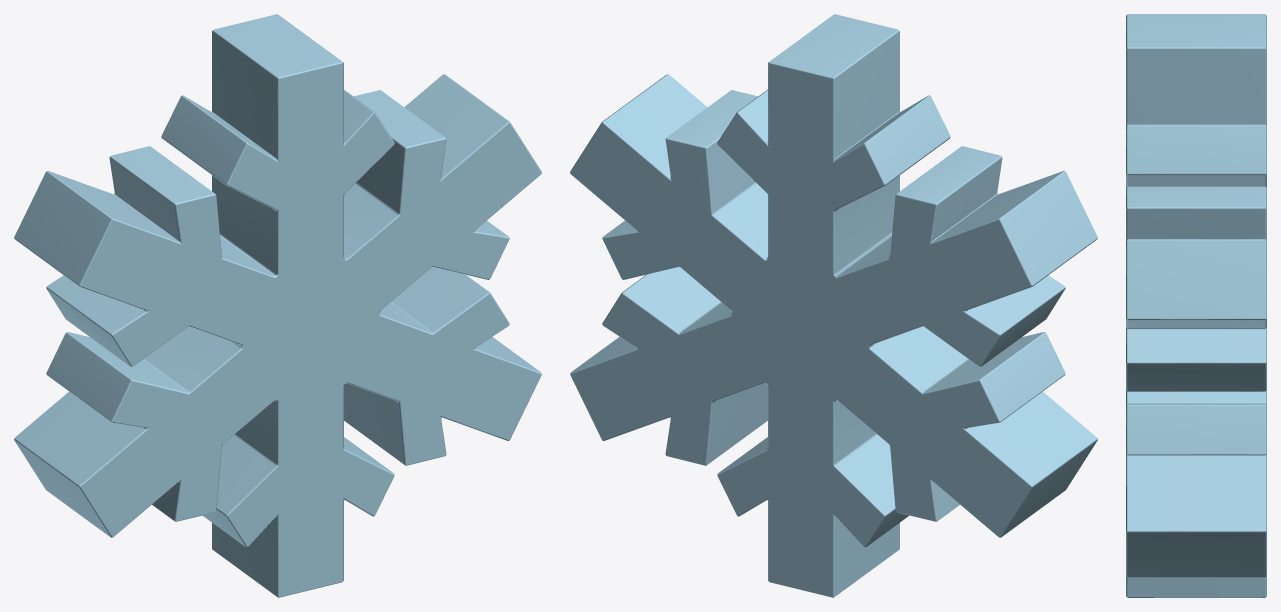
File: bonus_freeze.glb
The picture shows the model from 3 angles, left to right: view 1: azimuth 30°, elevation 25°; view 2: azimuth 150°, elevation 25°; view 3: azimuth 270°, elevation 25°; orthographic projection. The views are drawn at different scales.
Parts seen in each view (by area): view 1: Snowflake.001; view 2: Snowflake.001; view 3: Snowflake.001.
Boxes of the visible parts, left/top/right/bottom form: Snowflake.001: left=14, top=14, right=541, bottom=597; Snowflake.001: left=570, top=14, right=1097, bottom=597; Snowflake.001: left=1126, top=14, right=1266, bottom=597.
Bounding box in the file's own units: 1.53 × 1.64 × 0.38.
